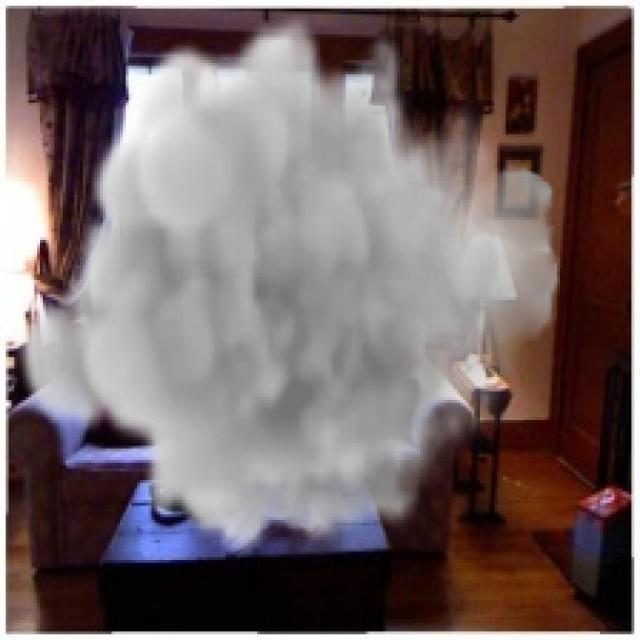smoke: (11, 14, 563, 554)
